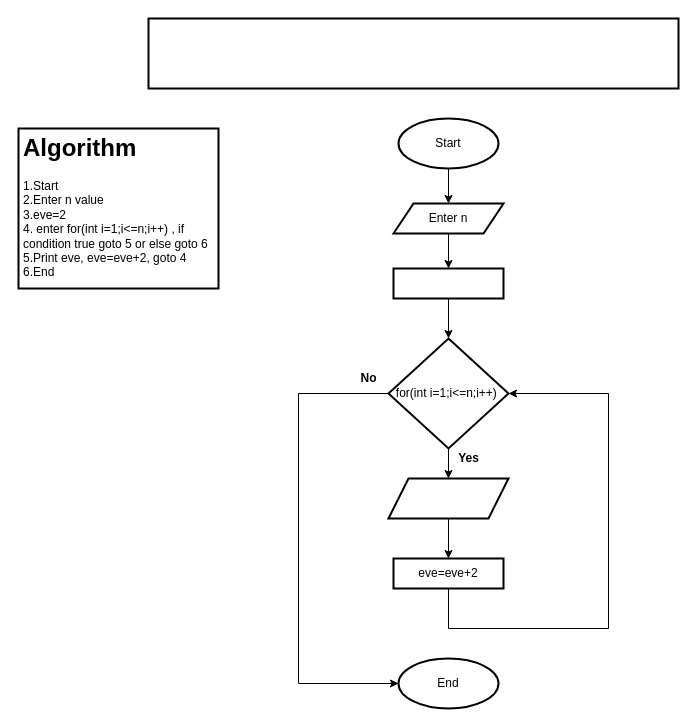
The diagram is 696 pixels wide and 726 high, and some of its shapes have lost their labels. The shapes that lost their labels are listed below. From the top down, each one's centre as x and y in pixels, then its label:
At pixel 413 53: "Print Even Series Upto n no.".
At pixel 448 283: "eve=2".
At pixel 448 498: "Print eve".
